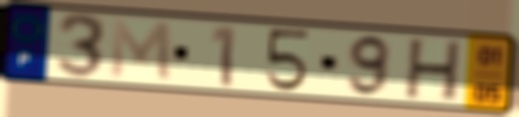1: (210, 25, 239, 89)
3: (54, 11, 109, 82)
5: (263, 26, 314, 93)
9: (345, 33, 394, 98)
H: (402, 37, 466, 104)
M: (108, 17, 175, 85)
